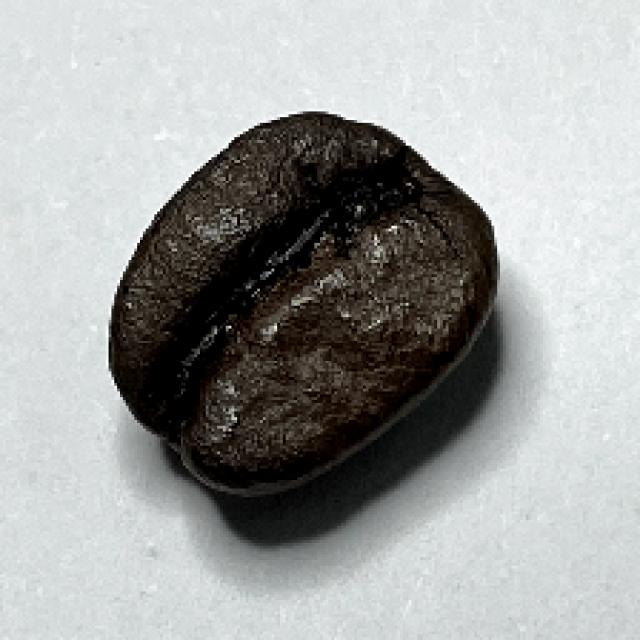bean: (106, 108, 504, 497)
